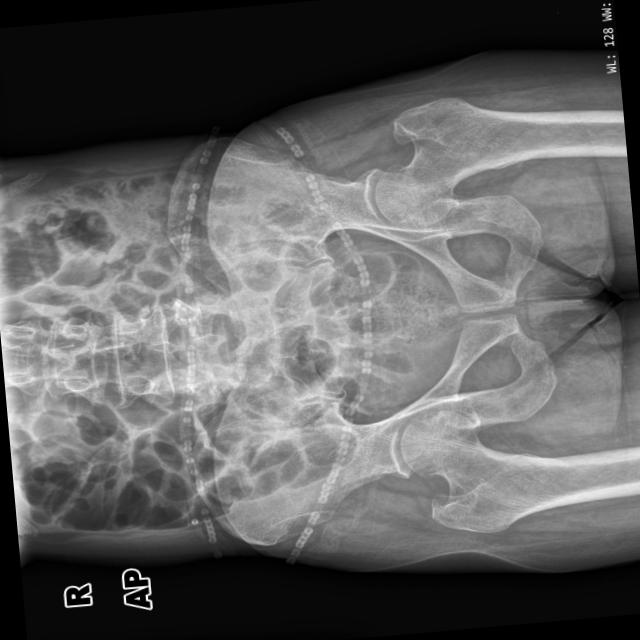normal-left: (374, 96, 627, 225)
normal-right: (400, 409, 640, 531)
